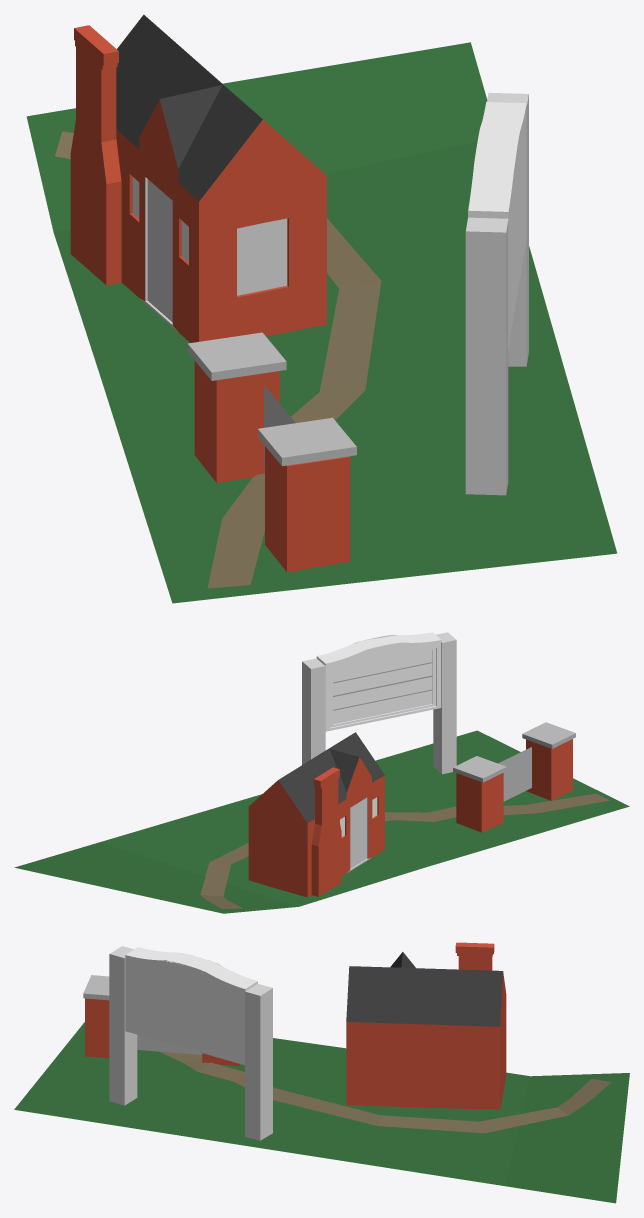
Rendered from guardhouse3.glb.
3 renders of one model, top to bottom at view 1: azimuth 30°, elevation 25°; view 2: azimuth 150°, elevation 25°; view 3: azimuth 270°, elevation 25°, orthographic. The views are drawn at different scales.
Visible parts, largest first — view 1: entrysign; view 2: entrysign; view 3: entrysign.
Part boxes in pixels (box(x1,y1,x2,y2)): entrysign: box(26, 14, 617, 603); entrysign: box(14, 632, 629, 913); entrysign: box(14, 942, 629, 1203).
Size of the model in its own units: 0.0634 by 0.0233 by 0.0789.
